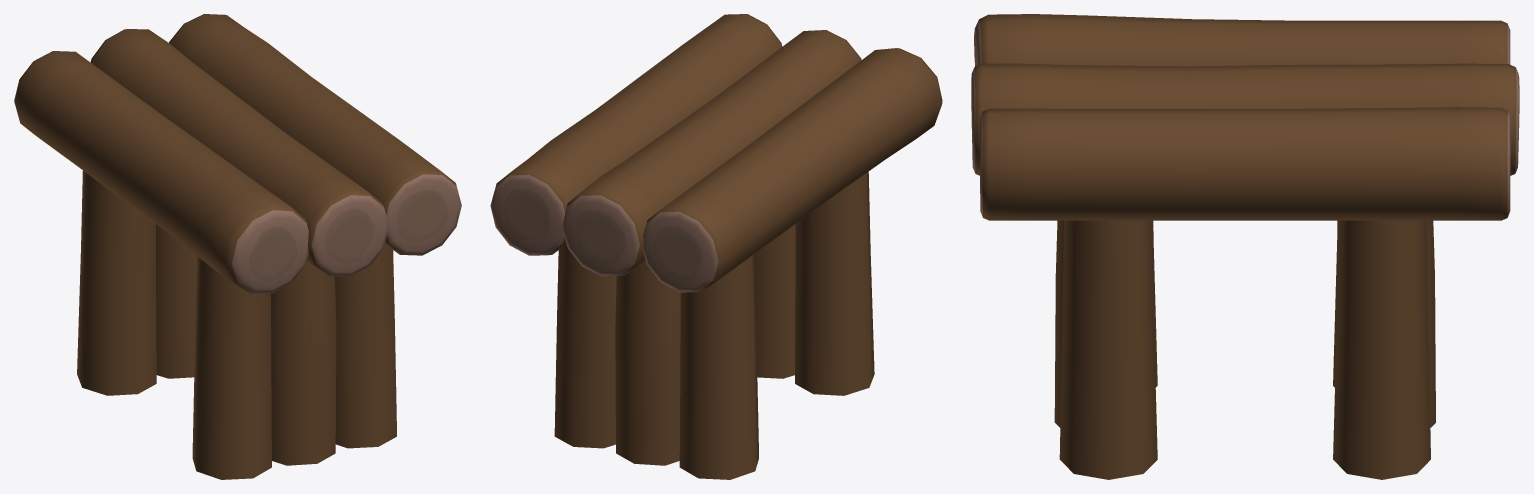
Rendered from frame.fbx.
The picture shows the model from 3 angles, left to right: view 1: azimuth 30°, elevation 25°; view 2: azimuth 150°, elevation 25°; view 3: azimuth 270°, elevation 25°; orthographic projection. The views are drawn at different scales.
Visible parts, largest first — view 1: frame-top, frame-bot; view 2: frame-top, frame-bot; view 3: frame-top, frame-bot.
Boxes of the visible parts, bbox=[...] form: frame-top: bbox=[14, 14, 461, 293]; frame-bot: bbox=[77, 170, 396, 479]; frame-top: bbox=[490, 14, 942, 292]; frame-bot: bbox=[554, 172, 874, 479]; frame-top: bbox=[971, 14, 1519, 220]; frame-bot: bbox=[1054, 220, 1435, 479].
Size of the model in its own units: 1.11 by 1.33 by 1.86.
